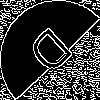D: (25, 25, 82, 83)
